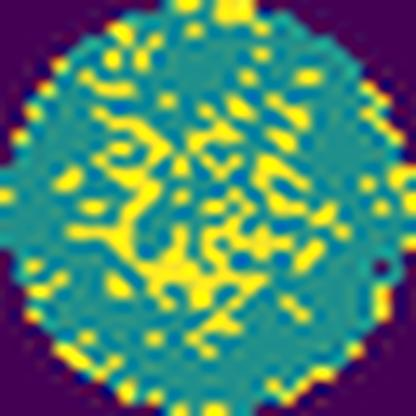Donut: (62, 82, 328, 325)
